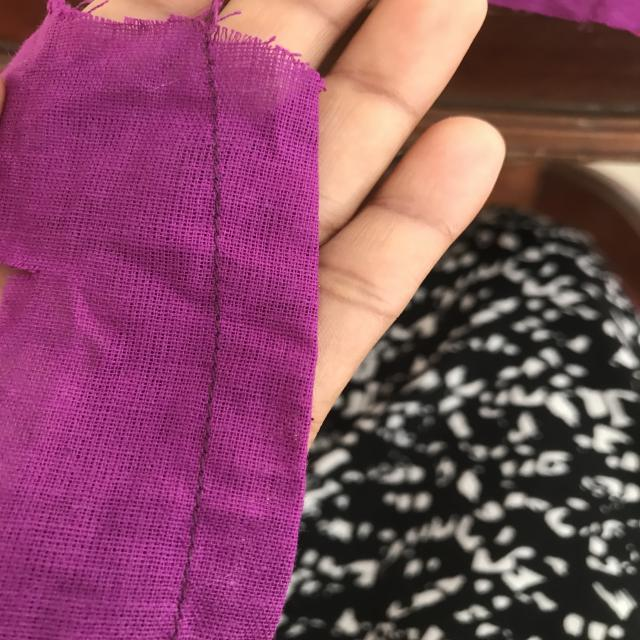good: (201, 173, 254, 309), (192, 344, 226, 470)
